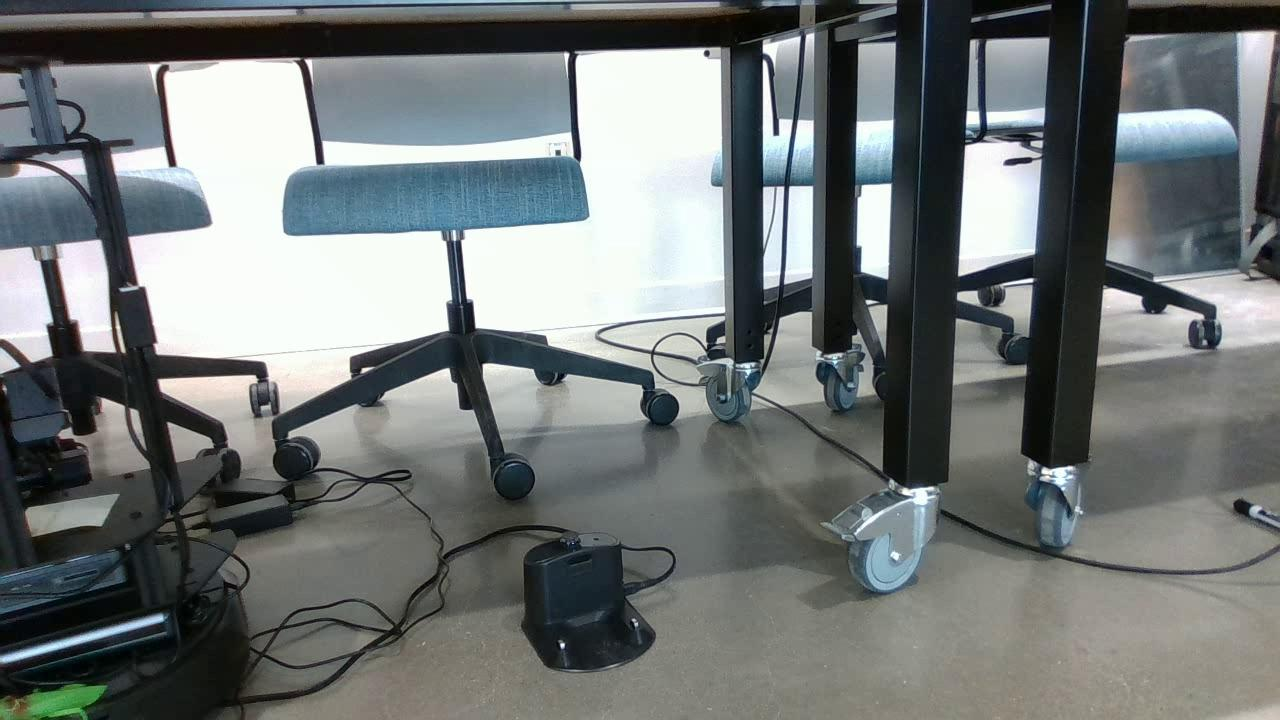grasshopper: (1, 675, 109, 720)
